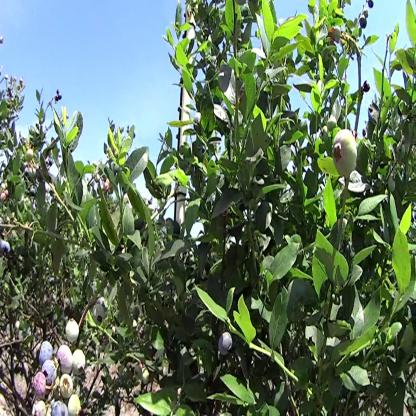intermediate: (57, 344, 74, 375), (33, 372, 49, 399)
mature: (41, 361, 59, 390), (216, 330, 234, 357), (39, 341, 55, 368), (50, 398, 71, 416), (1, 240, 11, 259)
young: (333, 134, 359, 176), (60, 373, 76, 403), (65, 318, 81, 345), (73, 348, 87, 376), (68, 397, 84, 416), (31, 402, 49, 416), (327, 115, 339, 134), (320, 126, 330, 144), (26, 147, 35, 162)
